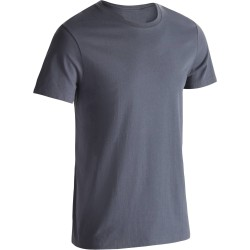T-Shirt: (32, 1, 217, 248)
